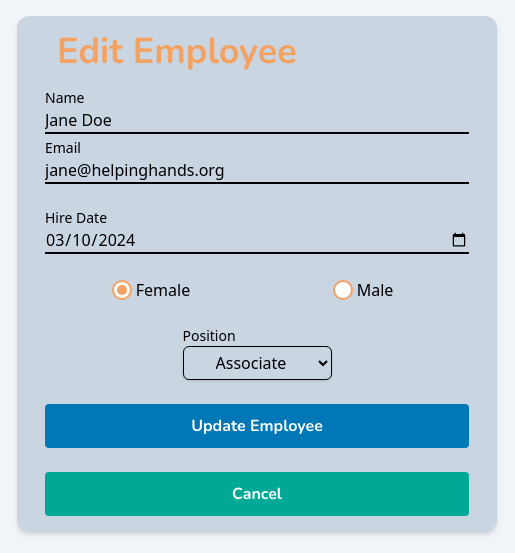
it: EditEmployeePage › shows backend field errors when update request fails
Check: the field labelled "Name" holds "Jane Doe", box x1=45 y1=108 x2=469 y2=134
Click the button "Update Employee".
click(257, 426)  # box x1=45 y1=404 x2=469 y2=448
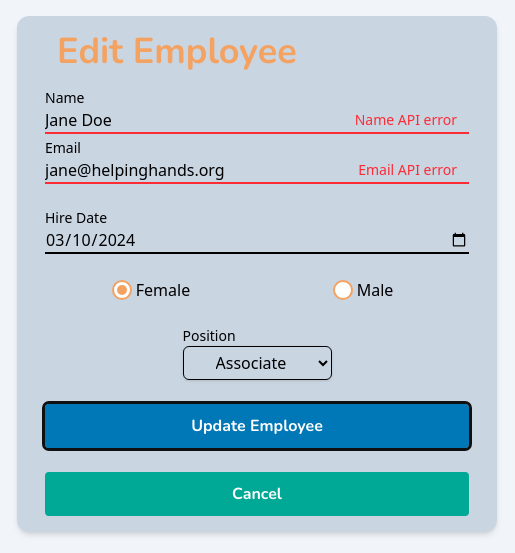
Check: the text "Email API error" is shown, box x1=358 y1=160 x2=457 y2=180
Check: the text "Name API error" is shown, box x1=355 y1=110 x2=457 y2=130
